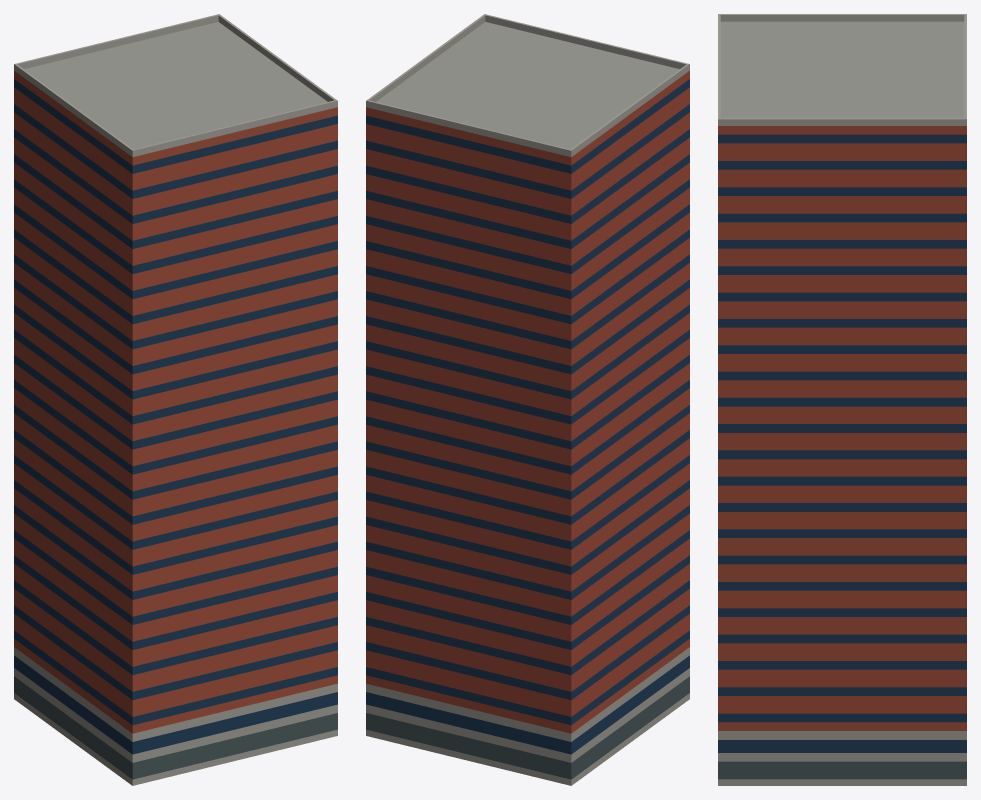
The model's file is far.fbx.
The picture shows the model from 3 angles, left to right: view 1: azimuth 30°, elevation 25°; view 2: azimuth 150°, elevation 25°; view 3: azimuth 270°, elevation 25°; orthographic projection. The views are drawn at different scales.
Parts seen in each view (by area): view 1: a2012/600/far; view 2: a2012/600/far; view 3: a2012/600/far.
Part boxes in pixels (bbox=[...]): a2012/600/far: bbox=[14, 14, 337, 785]; a2012/600/far: bbox=[366, 14, 689, 785]; a2012/600/far: bbox=[718, 14, 966, 785].
Size of the model in its own units: 30 by 88.7 by 30.
